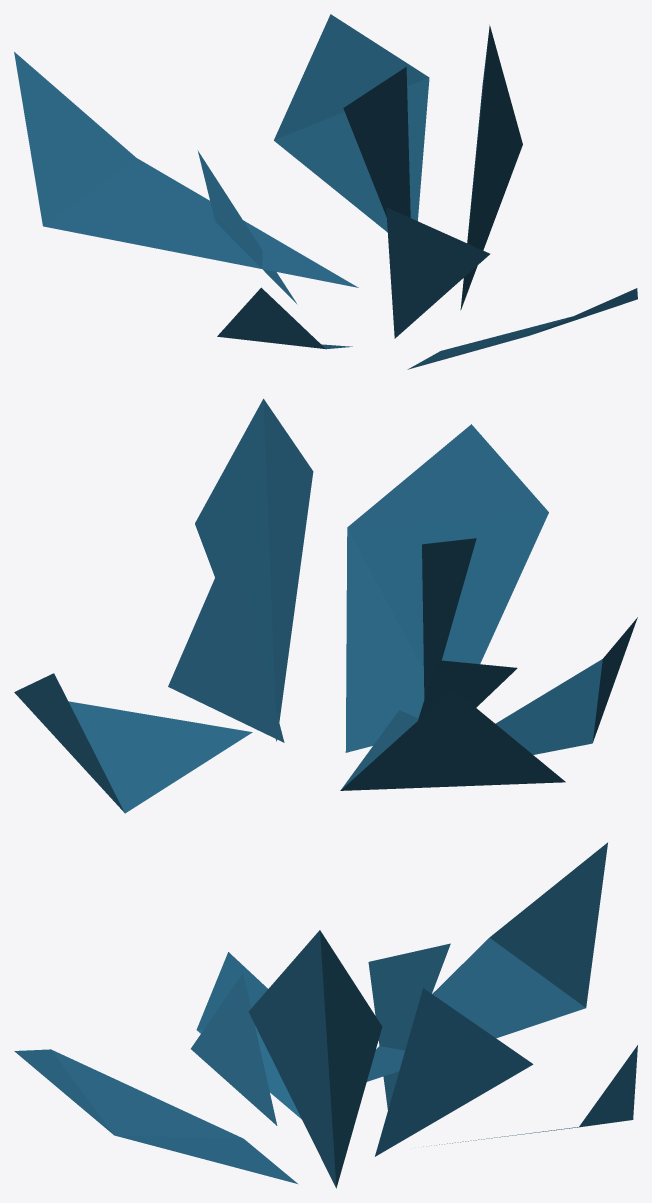
File: bush.glb
3 renders of one model, top to bottom at view 1: azimuth 30°, elevation 25°; view 2: azimuth 150°, elevation 25°; view 3: azimuth 270°, elevation 25°, orthographic. The views are drawn at different scales.
Visible parts, largest first — view 1: TropicalTree; view 2: TropicalTree; view 3: TropicalTree.
Boxes of the visible parts, box(x1,y1,x2,y2) form: TropicalTree: box(14, 14, 637, 369); TropicalTree: box(14, 398, 637, 813); TropicalTree: box(14, 842, 637, 1188).
Size of the model in its own units: 0.6461 by 0.431 by 0.8645.
